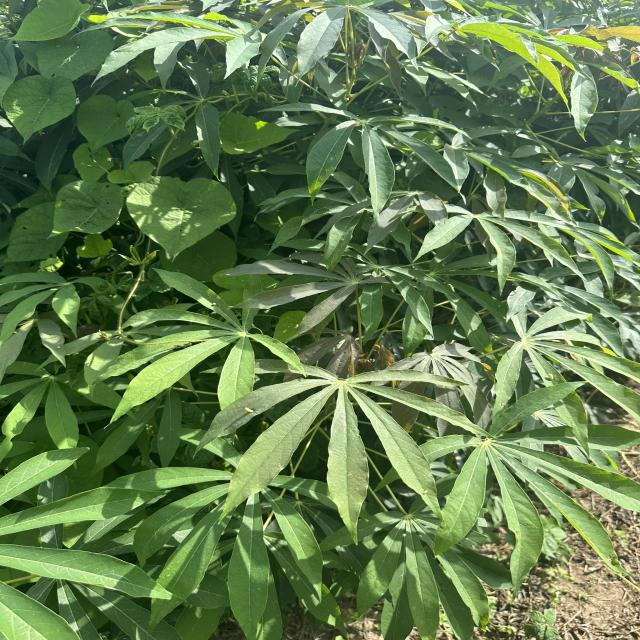Maleza: (11, 10, 107, 147), (7, 166, 119, 265), (127, 175, 237, 248), (219, 100, 310, 163)
Mosca: (414, 484, 431, 502), (538, 367, 559, 380), (243, 403, 255, 420)
